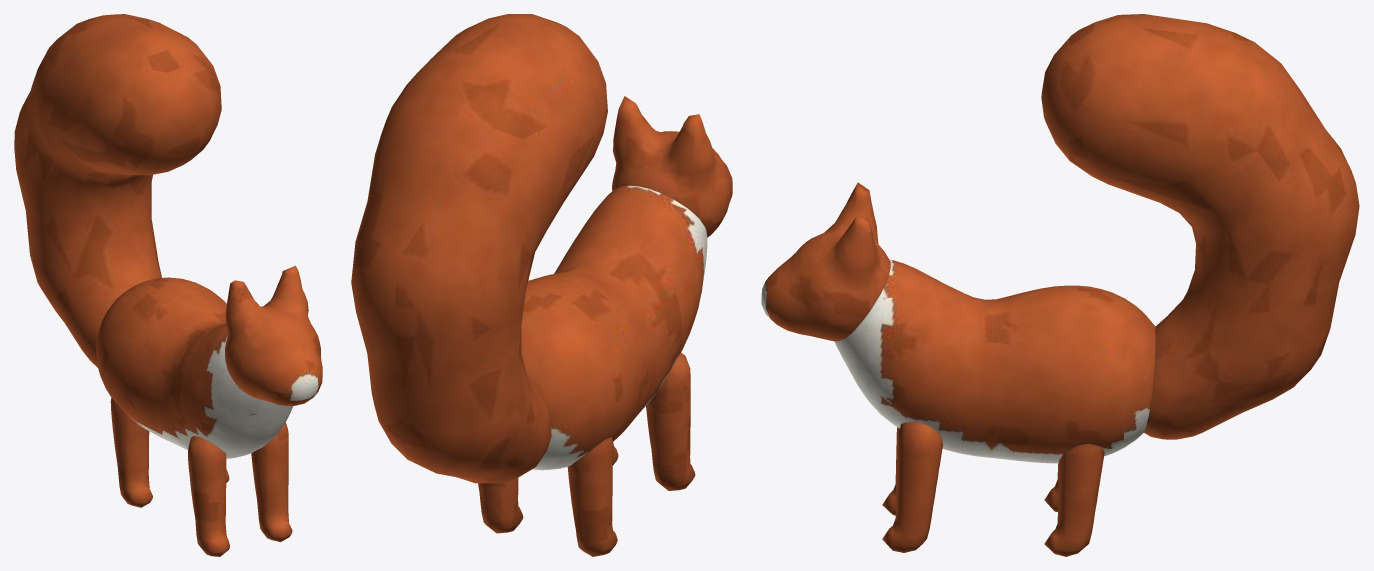
Rendered from animal_squirrel.glb.
The picture shows the model from 3 angles, left to right: view 1: azimuth 30°, elevation 25°; view 2: azimuth 150°, elevation 25°; view 3: azimuth 270°, elevation 25°; orthographic projection. The views are drawn at different scales.
Visible parts, largest first — view 1: tail, animal_squirrel, head, leg0, leg1, leg2; view 2: tail, animal_squirrel, head, leg0, leg2, leg3; view 3: tail, animal_squirrel, head, leg1, leg3.
Part boxes in pixels (x1=…): tail: x1=14, y1=14, x2=221, y2=367; animal_squirrel: x1=96, y1=277, x2=293, y2=458; head: x1=225, y1=265, x2=322, y2=406; leg0: x1=188, y1=436, x2=229, y2=556; leg1: x1=251, y1=422, x2=292, y2=541; leg2: x1=110, y1=398, x2=152, y2=507; tail: x1=351, y1=14, x2=607, y2=483; animal_squirrel: x1=521, y1=185, x2=707, y2=470; head: x1=612, y1=96, x2=732, y2=237; leg0: x1=646, y1=352, x2=695, y2=490; leg2: x1=567, y1=437, x2=617, y2=556; leg3: x1=478, y1=478, x2=523, y2=533; tail: x1=1041, y1=14, x2=1359, y2=439; animal_squirrel: x1=834, y1=259, x2=1155, y2=463; head: x1=761, y1=182, x2=890, y2=341; leg1: x1=882, y1=422, x2=942, y2=552; leg3: x1=1044, y1=443, x2=1104, y2=556.
Bounding box in the file's own units: 0.079 × 0.2438 × 0.2584.
1 material, 1 textured.
